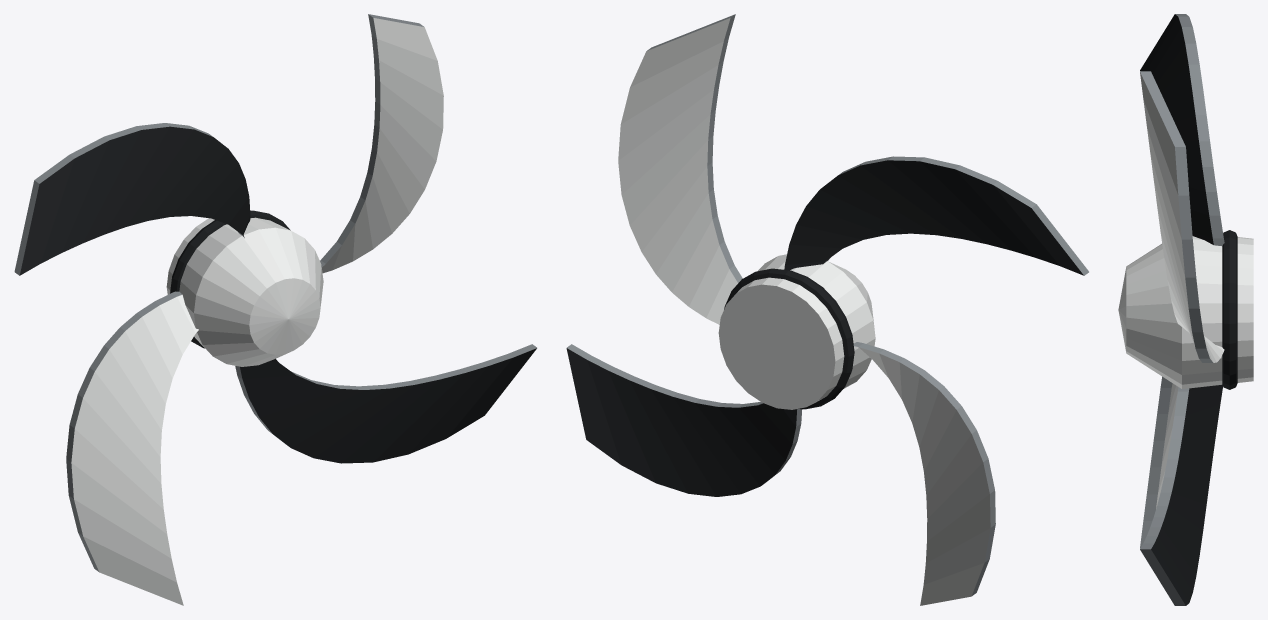
The model's file is turbine_rotor.obj.
3 views of the same model, side by side, from view 1: azimuth 30°, elevation 25°; view 2: azimuth 150°, elevation 25°; view 3: azimuth 270°, elevation 25° (orthographic). The views are drawn at different scales.
Bounding box in the file's own units: 0.7982 × 0.7982 × 0.17.
